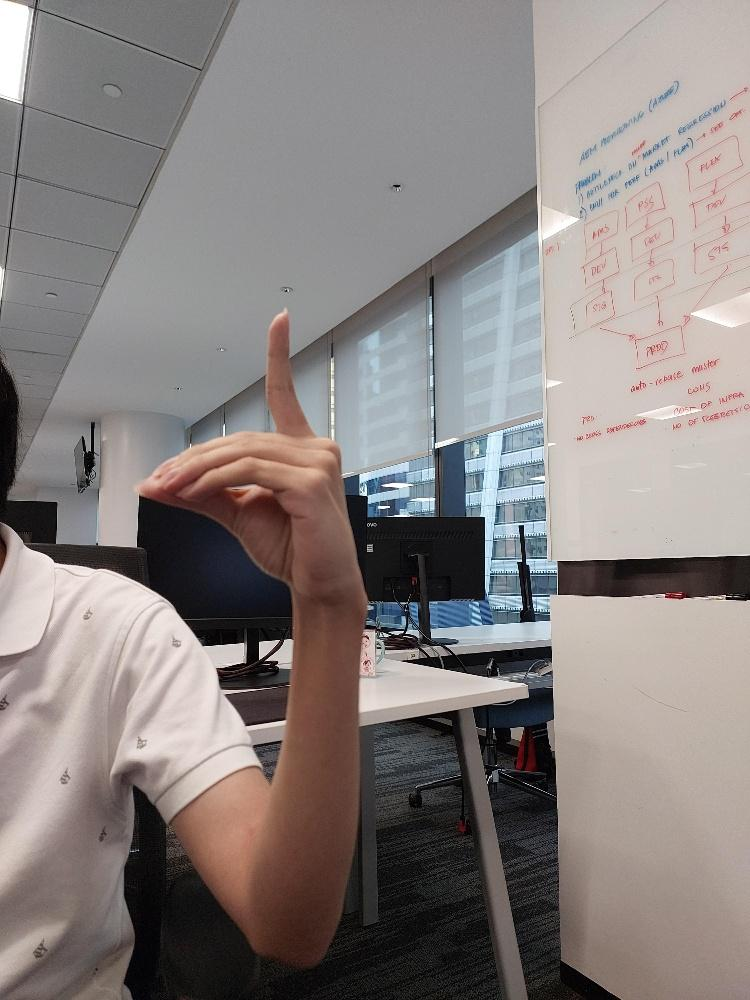d: (136, 301, 361, 601)
